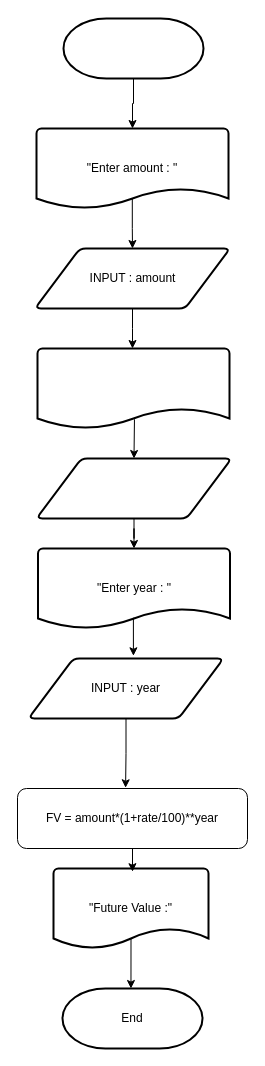
This 265x1066 diagram has some shape labels left out. The box of each missing label's shape, as (x1, y1, x2, y2) in pixels:
"Enter rate : ": (36, 347, 230, 429)
INPUT : rate: (35, 457, 232, 519)
Start: (62, 17, 204, 79)
